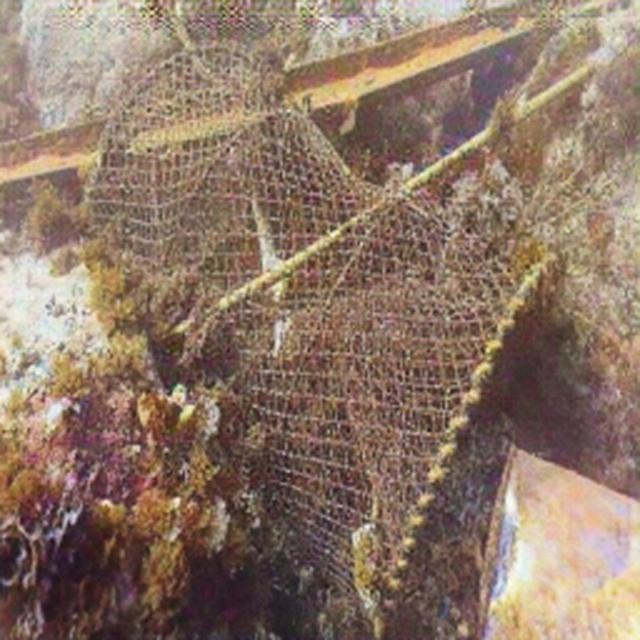mine: (81, 37, 559, 640)
